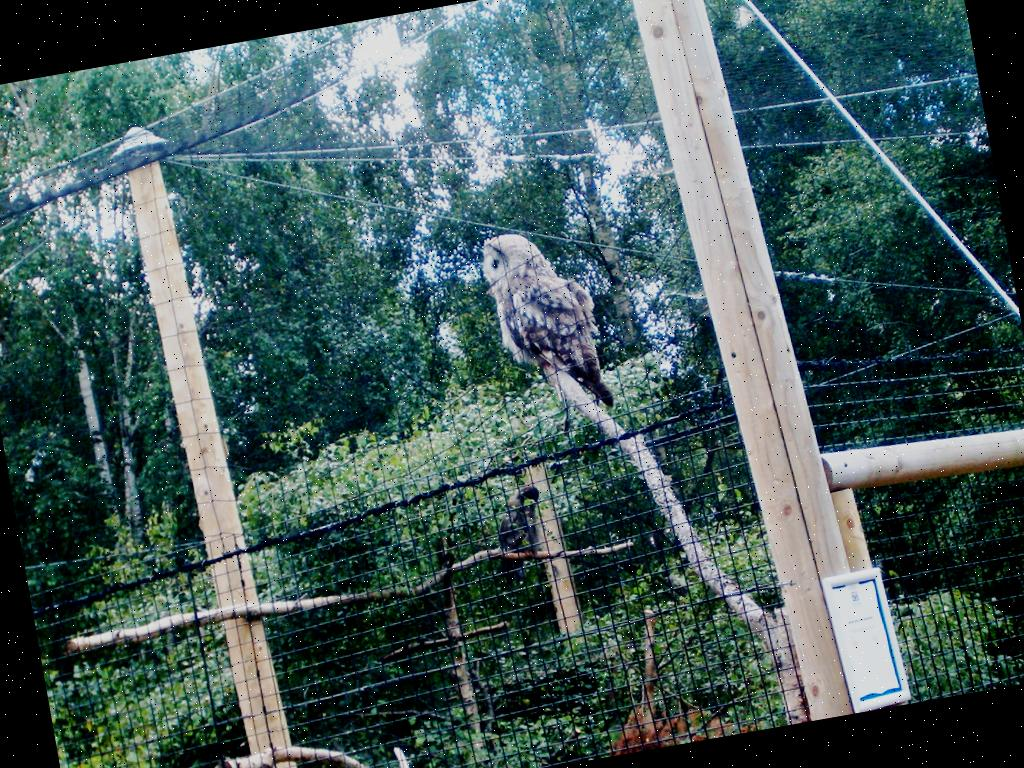Owl: (469, 208, 637, 439)
